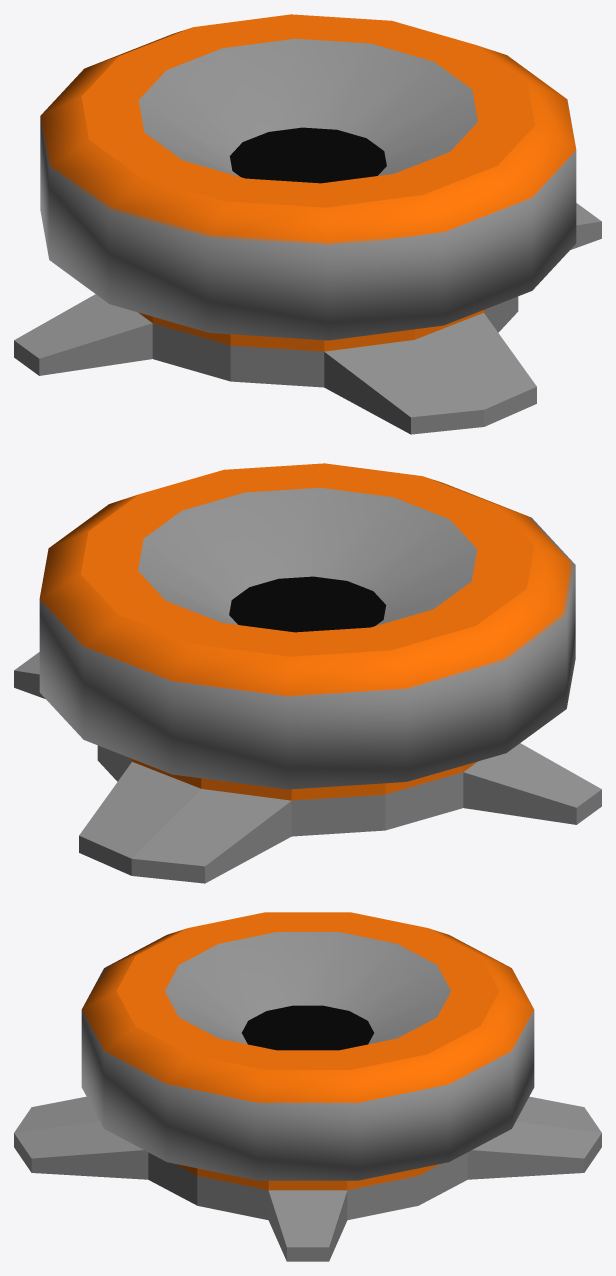
The model's file is wsca.fbx.
3 renders of one model, top to bottom at view 1: azimuth 30°, elevation 25°; view 2: azimuth 150°, elevation 25°; view 3: azimuth 270°, elevation 25°, orthographic. The views are drawn at different scales.
Visible parts, largest first — view 1: Cylinder.001; view 2: Cylinder.001; view 3: Cylinder.001.
Part boxes in pixels (x1=…): Cylinder.001: x1=14, y1=14, x2=601, y2=434; Cylinder.001: x1=14, y1=463, x2=601, y2=883; Cylinder.001: x1=14, y1=912, x2=601, y2=1261.
Bounding box in the file's own units: 240 × 260 × 76.09.
Materials: 1 (1 with a texture image).
